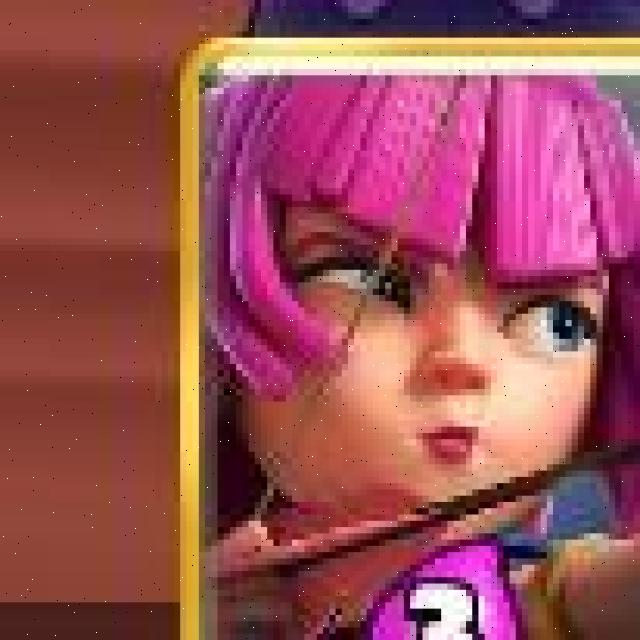Archers: (176, 34, 640, 640)
